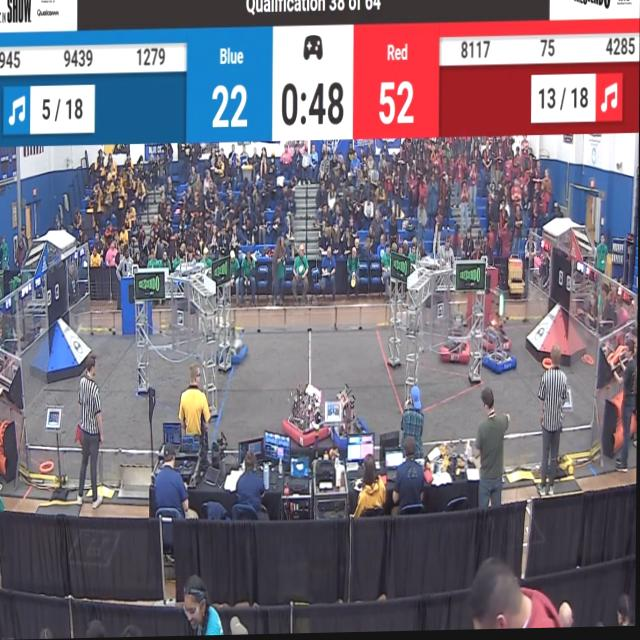Robot: (281, 370, 332, 450), (331, 375, 382, 451), (480, 314, 525, 383), (211, 307, 254, 373), (477, 291, 516, 355), (439, 300, 472, 367)
